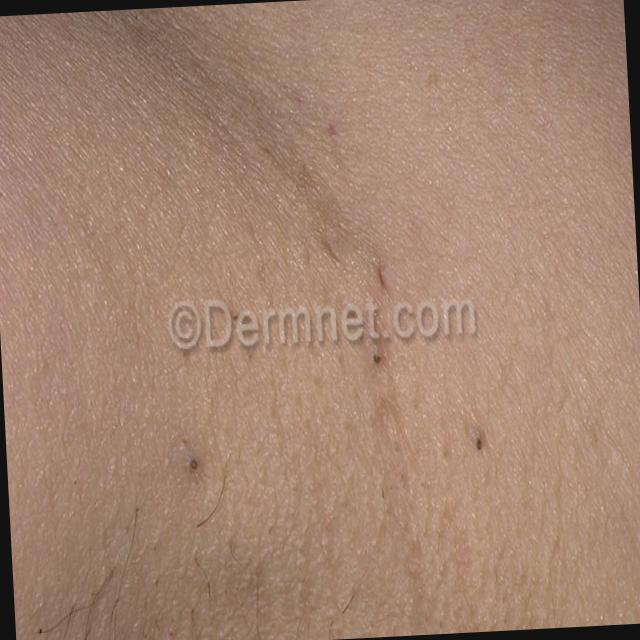blackhead: (475, 437, 484, 454), (372, 307, 380, 321), (232, 310, 240, 323), (190, 459, 198, 471), (374, 354, 382, 364), (38, 628, 42, 635), (73, 480, 77, 486), (135, 15, 138, 20), (0, 192, 2, 197)
